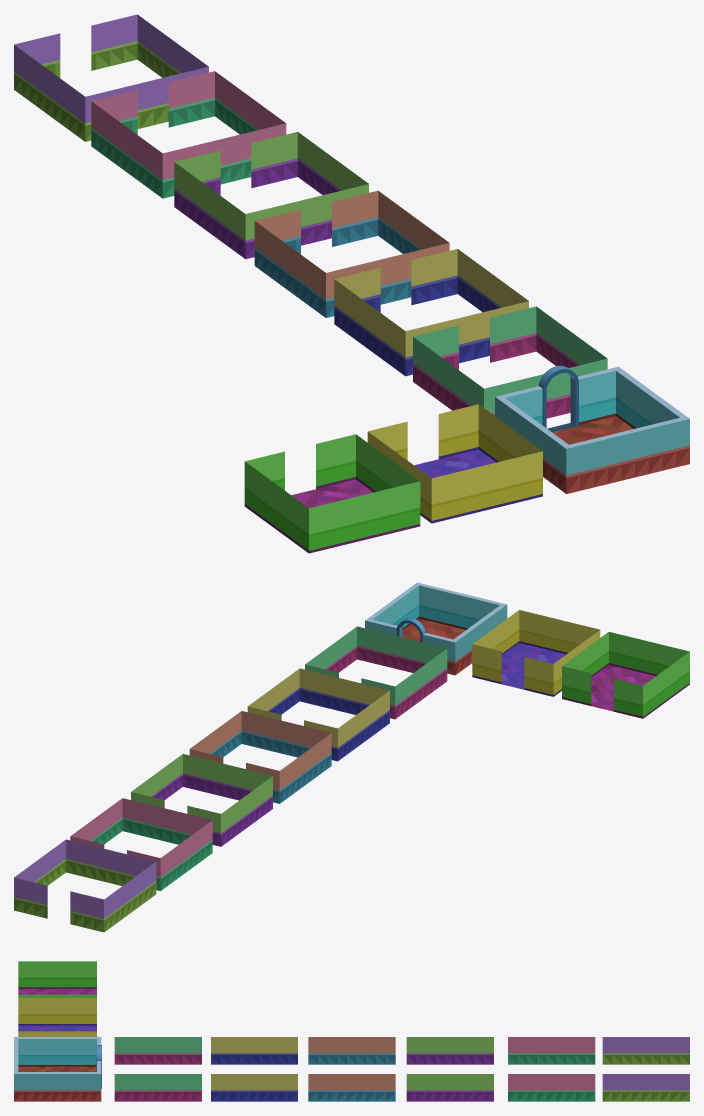
The model's file is Room2.fbx.
3 renders of one model, top to bottom at view 1: azimuth 30°, elevation 25°; view 2: azimuth 150°, elevation 25°; view 3: azimuth 270°, elevation 25°, orthographic. The views are drawn at different scales.
Visible parts, largest first — view 1: Room2InsideIndex2, Room2InsideIndex1, Room2OutsideLvl6, Room2OutsideLvl5, Room2OutsideLvl4, Room2OutsideLvl3, Room2OutsideLvl7, Room2OutsideLvl2, Room2OutsideLvl1, Room2InsideIndex0, Room2WallThick; view 2: Room2InsideIndex2, Room2OutsideLvl7, Room2InsideIndex1, Room2OutsideLvl5, Room2OutsideLvl4, Room2OutsideLvl3, Room2OutsideLvl2, Room2OutsideLvl6, Room2InsideIndex0, Room2OutsideLvl1, Room2WallThick; view 3: Room2OutsideLvl2, Room2OutsideLvl4, Room2OutsideLvl5, Room2OutsideLvl6, Room2OutsideLvl7, Room2OutsideLvl3, Room2InsideIndex1, Room2InsideIndex2, Room2InsideIndex0, Room2OutsideLvl1, Room2WallThick.
Part boxes in pixels (left/top/right/bottom): Room2InsideIndex2: left=244, top=434, right=420, bottom=553; Room2InsideIndex1: left=367, top=404, right=542, bottom=523; Room2OutsideLvl6: left=91, top=71, right=286, bottom=198; Room2OutsideLvl5: left=174, top=132, right=368, bottom=259; Room2OutsideLvl4: left=254, top=190, right=449, bottom=317; Room2OutsideLvl3: left=334, top=249, right=528, bottom=376; Room2OutsideLvl7: left=14, top=14, right=208, bottom=141; Room2OutsideLvl2: left=413, top=306, right=607, bottom=418; Room2OutsideLvl1: left=495, top=397, right=689, bottom=493; Room2InsideIndex0: left=505, top=371, right=679, bottom=444; Room2WallThick: left=495, top=365, right=689, bottom=448; Room2InsideIndex2: left=562, top=632, right=689, bottom=718; Room2OutsideLvl7: left=14, top=839, right=156, bottom=932; Room2InsideIndex1: left=472, top=610, right=600, bottom=696; Room2OutsideLvl5: left=131, top=754, right=272, bottom=846; Room2OutsideLvl4: left=189, top=711, right=331, bottom=803; Room2OutsideLvl3: left=247, top=668, right=389, bottom=761; Room2OutsideLvl2: left=305, top=626, right=447, bottom=719; Room2OutsideLvl6: left=70, top=798, right=212, bottom=890; Room2InsideIndex0: left=372, top=585, right=499, bottom=641; Room2OutsideLvl1: left=365, top=605, right=507, bottom=675; Room2WallThick: left=365, top=582, right=506, bottom=642; Room2OutsideLvl2: left=114, top=1037, right=201, bottom=1101; Room2OutsideLvl4: left=308, top=1037, right=395, bottom=1101; Room2OutsideLvl5: left=406, top=1037, right=493, bottom=1101; Room2OutsideLvl6: left=508, top=1037, right=595, bottom=1101; Room2OutsideLvl7: left=602, top=1037, right=689, bottom=1101; Room2OutsideLvl3: left=211, top=1037, right=297, bottom=1101; Room2InsideIndex1: left=18, top=998, right=96, bottom=1036; Room2InsideIndex2: left=18, top=961, right=96, bottom=997; Room2InsideIndex0: left=18, top=1039, right=96, bottom=1071; Room2OutsideLvl1: left=14, top=1074, right=101, bottom=1101; Room2WallThick: left=14, top=1037, right=101, bottom=1088.
Size of the model in its own units: 1833 by 280 by 4648.
